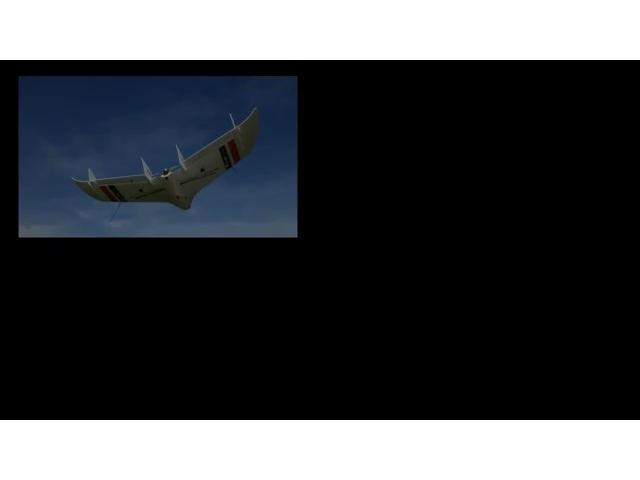Anti-Drone: (54, 105, 284, 219)
